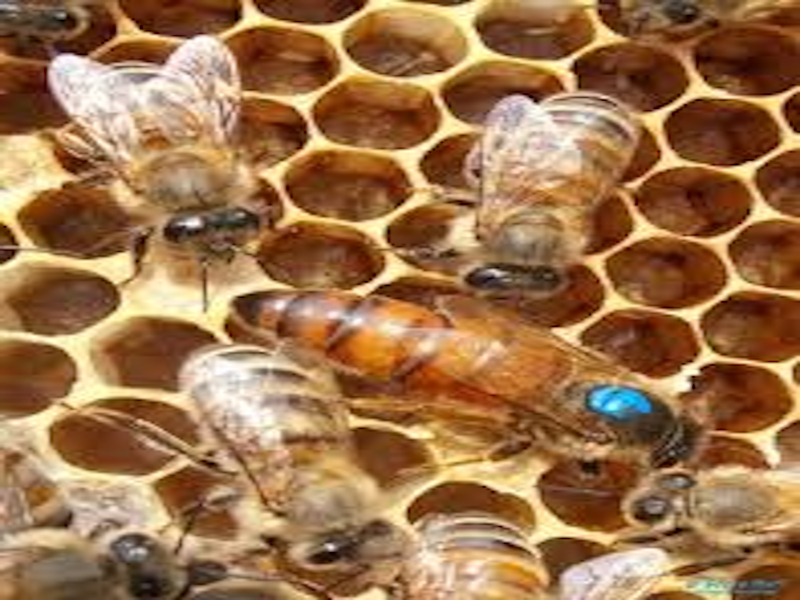abeja: (42, 41, 301, 266), (432, 57, 641, 334)
